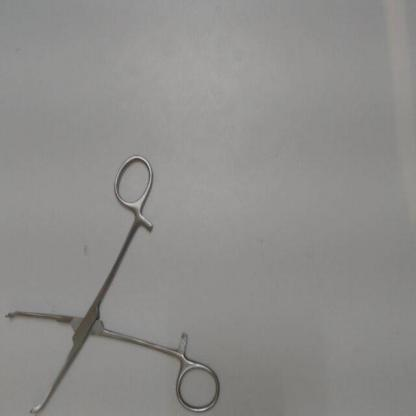Allis Tissue Forceps: (1, 146, 227, 416)
